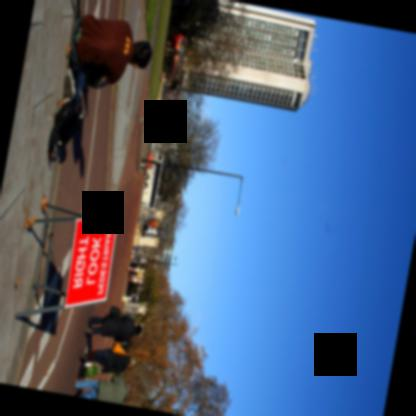handbag: (45, 95, 83, 163), (110, 341, 128, 355), (108, 305, 124, 317)
